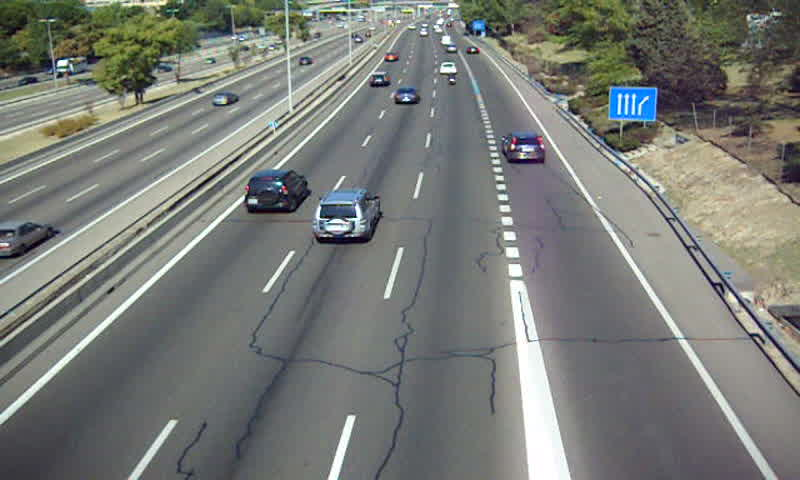car: (314, 189, 378, 242), (245, 171, 307, 215), (501, 133, 547, 164), (393, 87, 420, 106), (368, 70, 390, 87), (439, 61, 457, 74)
motorcycle: (445, 74, 457, 88)
